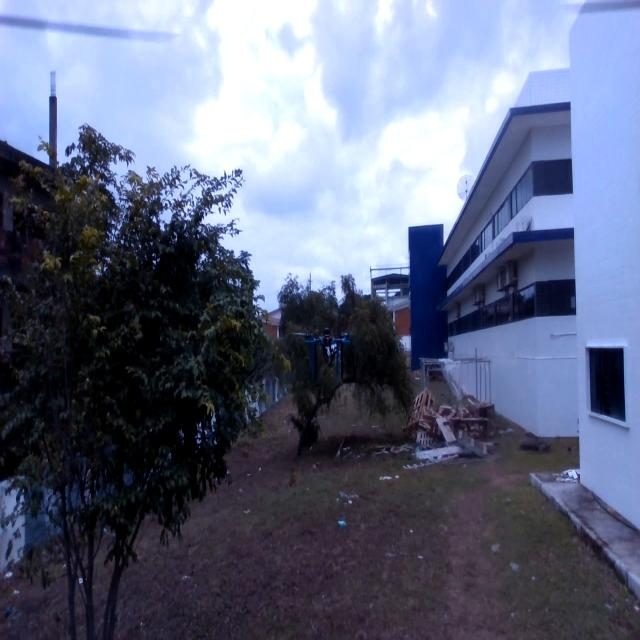-uav-: (286, 308, 362, 393)
